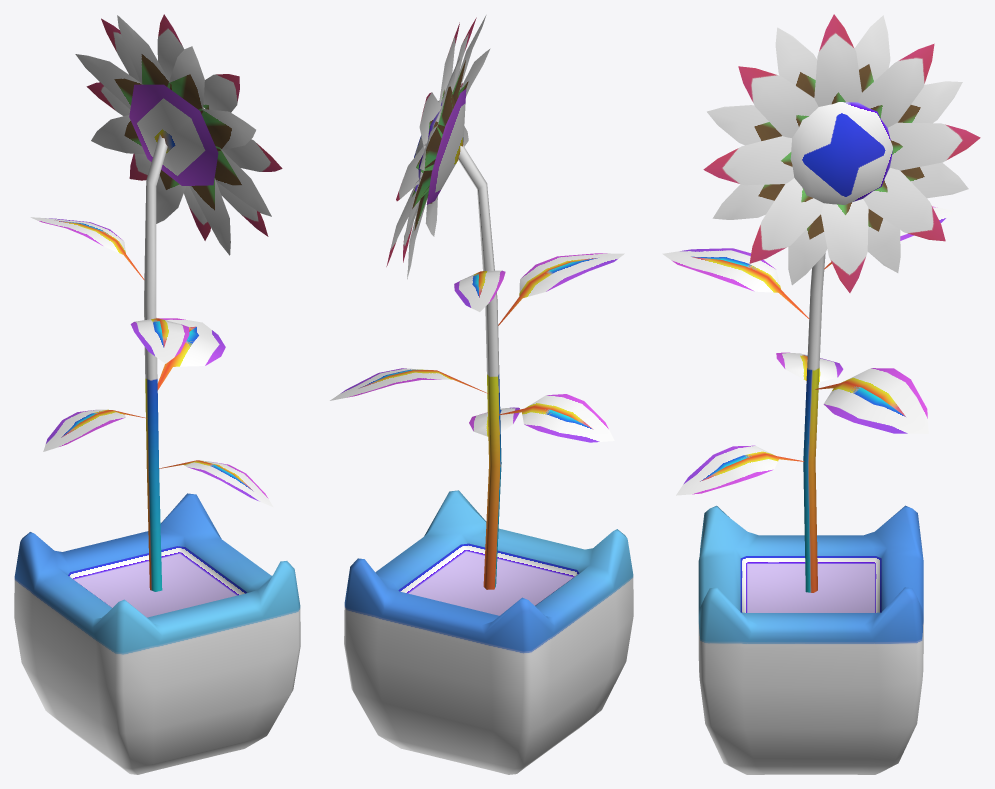
Rendered from Sunflower.fbx.
The picture shows the model from 3 angles, left to right: view 1: azimuth 30°, elevation 25°; view 2: azimuth 150°, elevation 25°; view 3: azimuth 270°, elevation 25°; orthographic projection. The views are drawn at different scales.
Visible parts, largest first — view 1: Plane.013; view 2: Plane.013; view 3: Plane.013.
Part boxes in pixels (x1=…): Plane.013: x1=14, y1=14, x2=300, y2=774; Plane.013: x1=330, y1=15, x2=633, y2=774; Plane.013: x1=662, y1=14, x2=980, y2=774.
Size of the model in its own units: 44.03 by 136 by 52.8.
